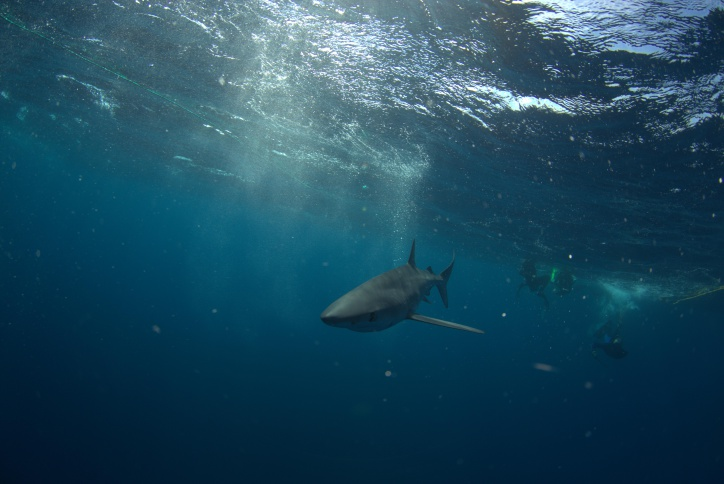Azul: (308, 229, 484, 352)
